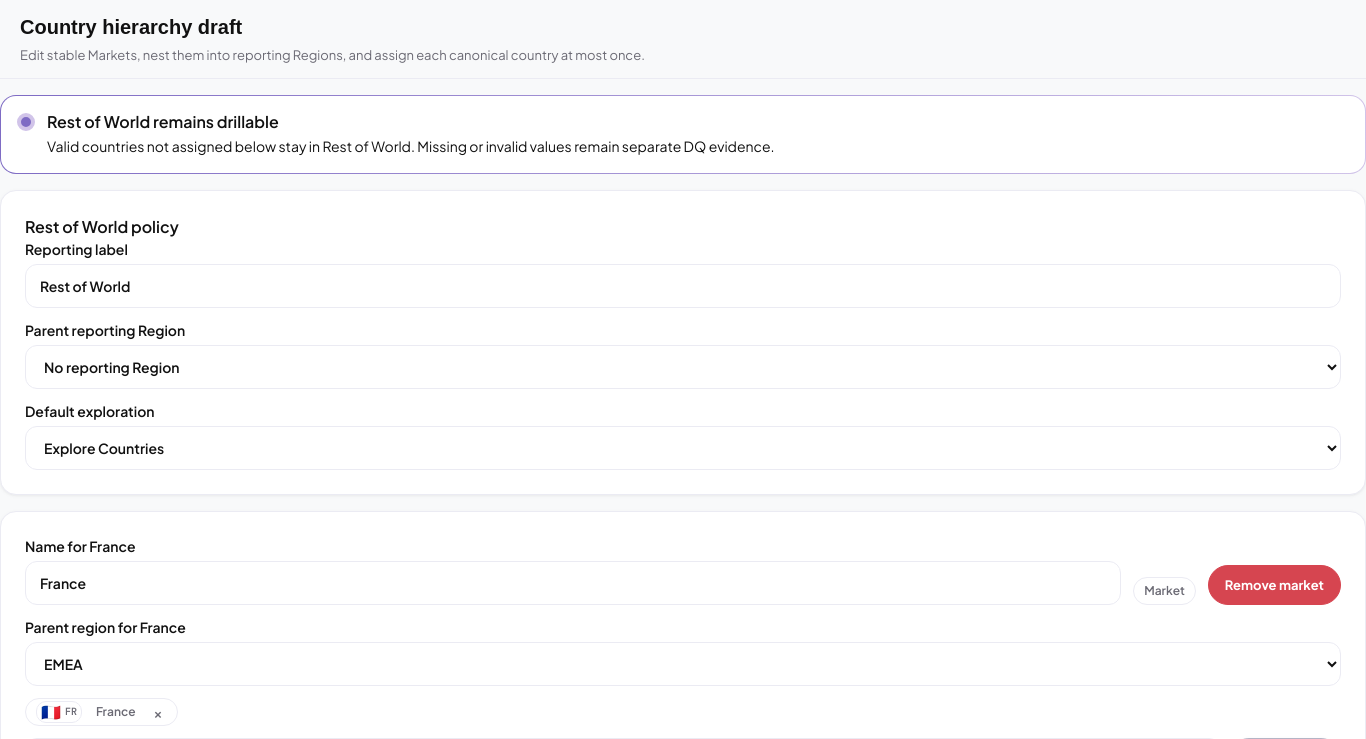
Test: Country Governance workspace › names what leaves with a Market before removing it
Expected: the heading "Country hierarchy draft" is shown, [20,16,242,38]
Click the button "Remove market". click: (1274, 585)
box: [1208,565,1341,605]
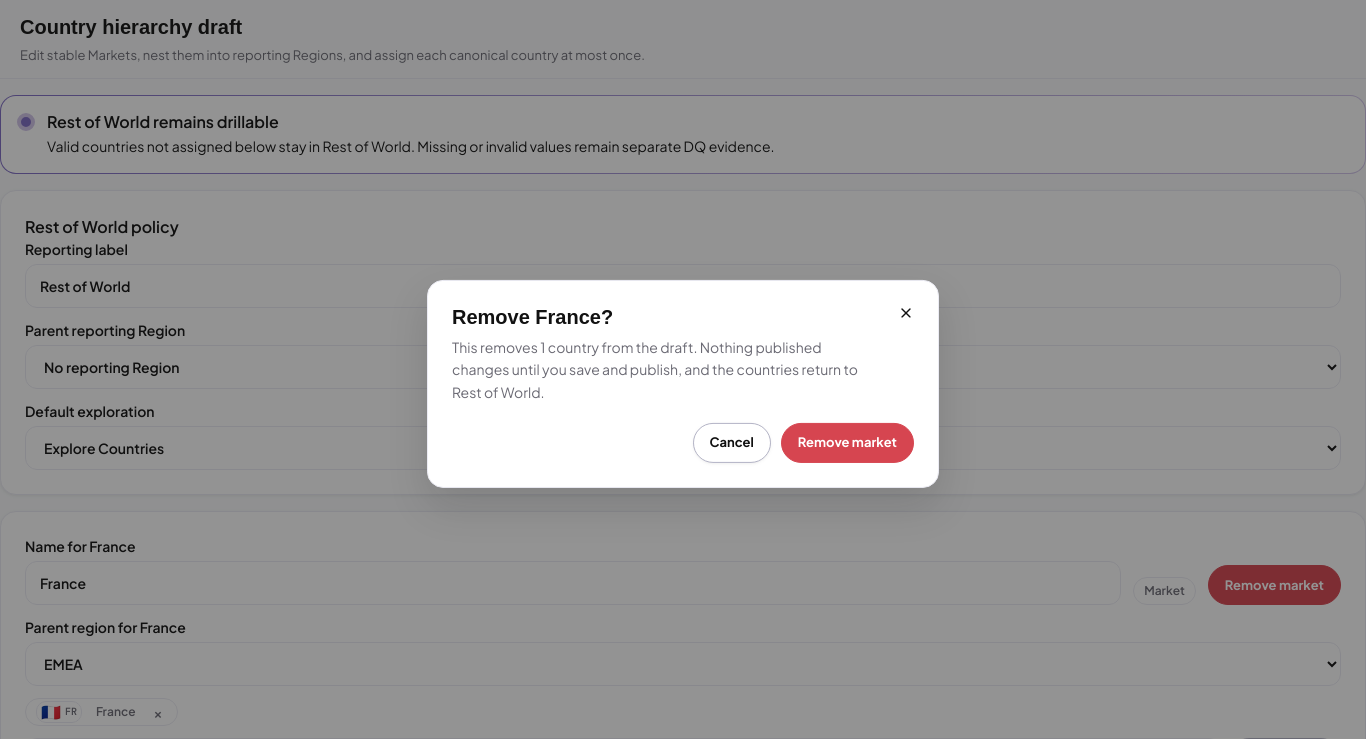
Expected: the heading "Remove France?" is shown, [452,306,613,328]
Expected: the text "This removes 1 country from the draft" is shown, [452,338,858,401]
Click the button with test id "country-remove-confirm". click: (847, 443)
box: [781,423,914,463]
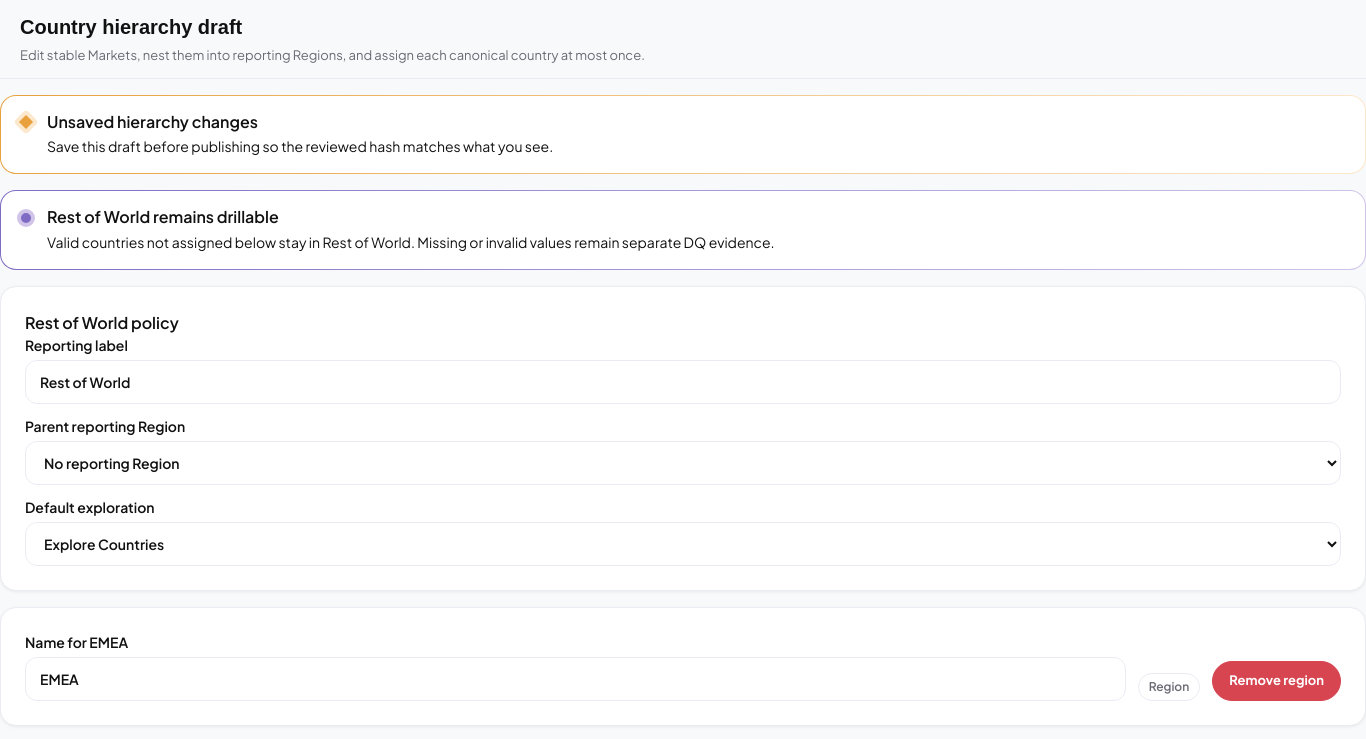
Expected: the label "Name for France" is gone
Expected: the text "Unsaved hierarchy changes" is shown, [47,110,258,132]
